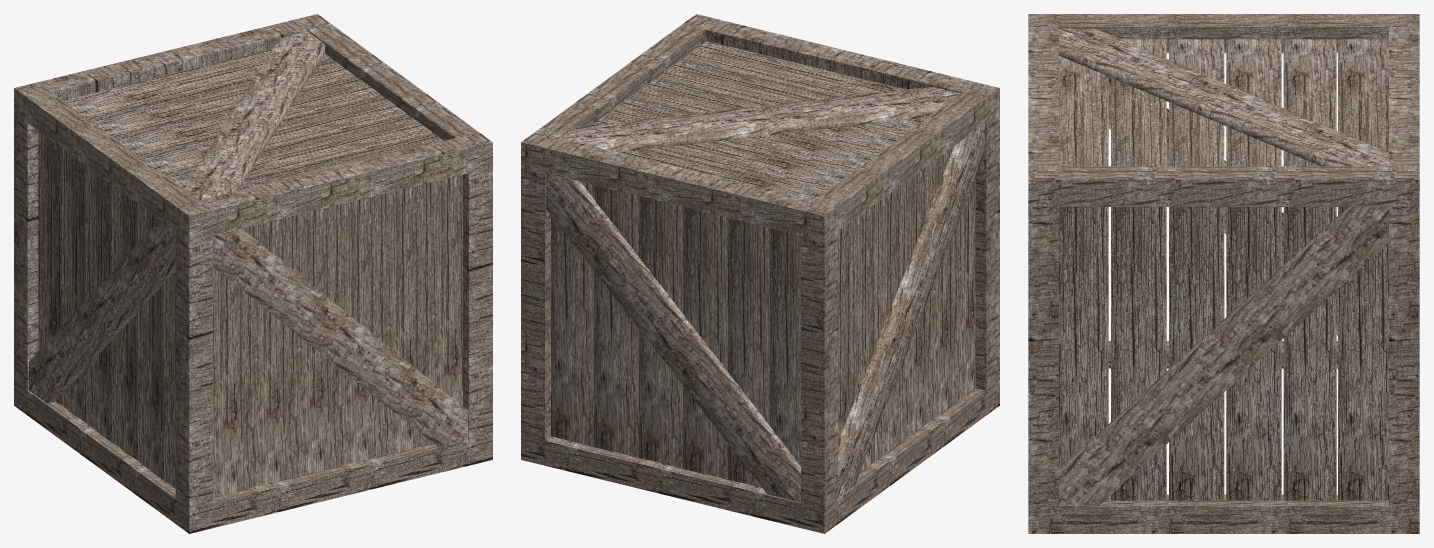
Rendered from Crate_2.fbx.
3 views of the same model, side by side, from view 1: azimuth 30°, elevation 25°; view 2: azimuth 150°, elevation 25°; view 3: azimuth 270°, elevation 25° (orthographic). The views are drawn at different scales.
Visible parts, largest first — view 1: polySurface1879, pCube1, polySurface1878; view 2: polySurface1879, pCube1, polySurface1878; view 3: polySurface1879, pCube1, polySurface1878.
Part boxes in pixels (left/top/right/bottom): polySurface1879: left=38, top=49, right=462, bottom=497; pCube1: left=14, top=14, right=492, bottom=533; polySurface1878: left=29, top=31, right=468, bottom=447; polySurface1879: left=551, top=41, right=975, bottom=487; pCube1: left=521, top=14, right=999, bottom=533; polySurface1878: left=545, top=86, right=984, bottom=502; polySurface1879: left=1059, top=39, right=1388, bottom=500; pCube1: left=1028, top=14, right=1419, bottom=533; polySurface1878: left=1059, top=28, right=1388, bottom=505.
Size of the model in its own units: 1 by 1 by 1.
2 materials, 2 textured.
